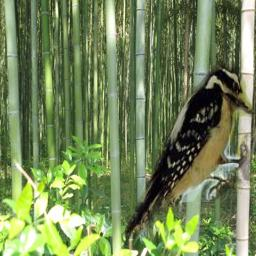Woodpecker: (125, 58, 255, 239)
